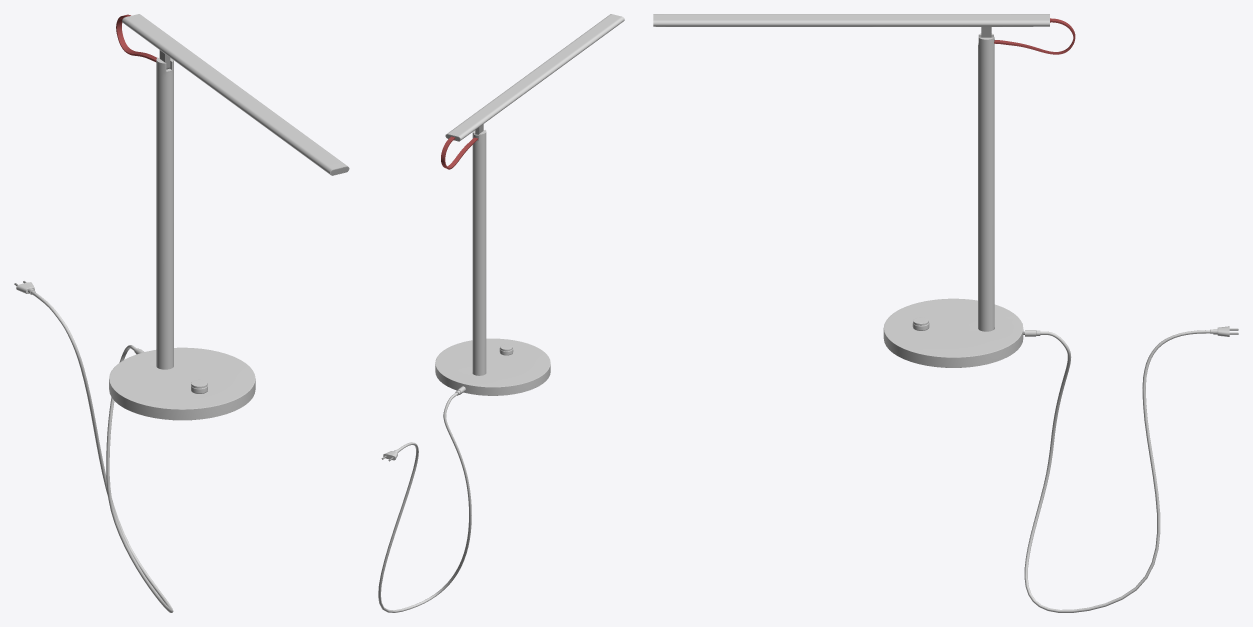
The model's file is uploads_files_2359895_xaomi_lamp.fbx.
The picture shows the model from 3 angles, left to right: view 1: azimuth 30°, elevation 25°; view 2: azimuth 150°, elevation 25°; view 3: azimuth 270°, elevation 25°; orthographic projection. The views are drawn at different scales.
Parts seen in each view (by area): view 1: pCylinder20, pCylinder17, polySurface5, polySurface2; view 2: pCylinder20, pCylinder17, polySurface5, polySurface2, pCube3; view 3: pCylinder20, polySurface5, pCylinder17, polySurface2.
Part boxes in pixels (bbox=[...]): pCylinder20: bbox=[109, 347, 255, 420]; pCylinder17: bbox=[156, 57, 173, 369]; polySurface5: bbox=[122, 14, 349, 175]; polySurface2: bbox=[33, 292, 173, 612]; pCylinder20: bbox=[435, 338, 550, 395]; pCylinder17: bbox=[472, 130, 486, 375]; polySurface5: bbox=[445, 14, 624, 141]; polySurface2: bbox=[378, 392, 471, 612]; pCube3: bbox=[441, 137, 478, 169]; pCylinder20: bbox=[883, 298, 1023, 367]; polySurface5: bbox=[653, 14, 1049, 26]; pCylinder17: bbox=[978, 33, 994, 331]; polySurface2: bbox=[1024, 330, 1209, 612].
Bounding box in the file's own units: 28.69 × 131 × 120.
